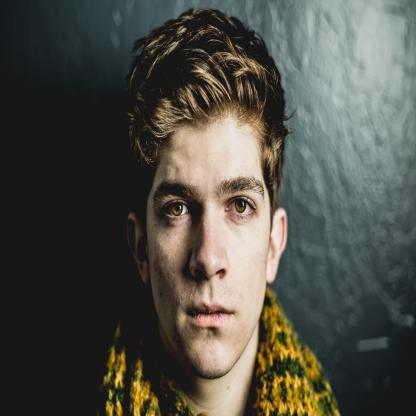Eye: (222, 194, 259, 224), (158, 196, 195, 225)
Mouth: (183, 299, 238, 329)
Nose: (190, 205, 230, 280)
